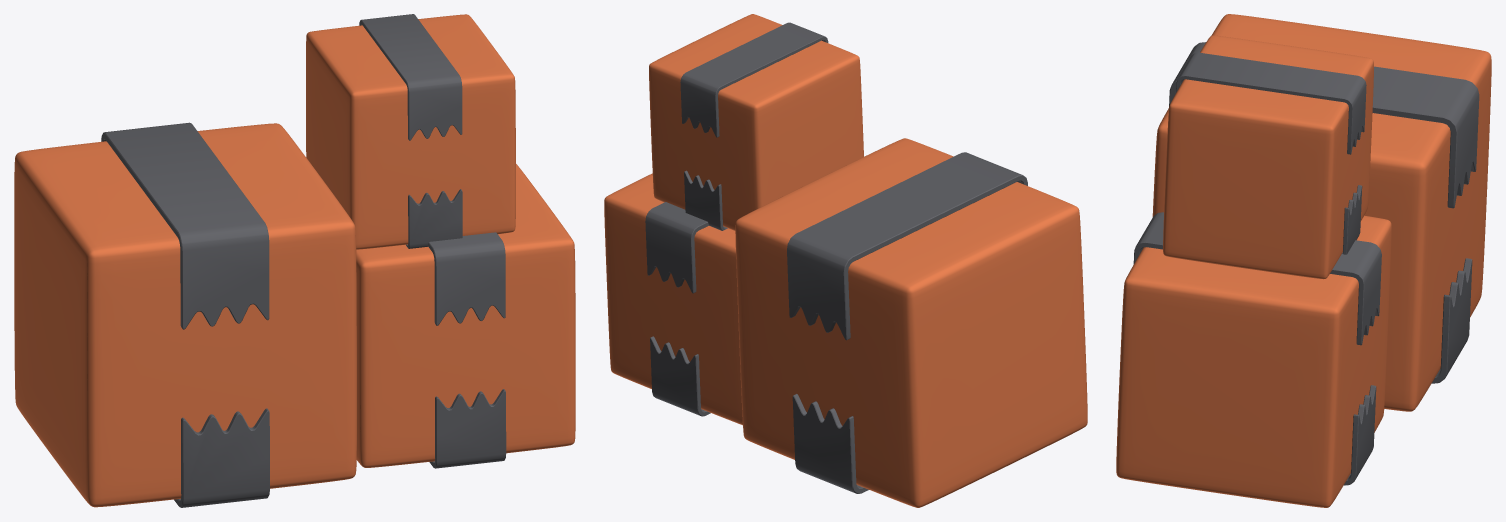
File: delivery-box-3d-icon-961040140073.glb
3 views of the same model, side by side, from view 1: azimuth 30°, elevation 25°; view 2: azimuth 150°, elevation 25°; view 3: azimuth 270°, elevation 25° (orthographic). The views are drawn at different scales.
Parts seen in each view (by area): view 1: Box, Tape; view 2: Box, Tape; view 3: Box, Tape.
Part boxes in pixels (x1,y1,x2,y2): Box: (14, 14, 575, 507); Tape: (101, 14, 506, 507); Box: (604, 14, 1087, 507); Tape: (645, 22, 1027, 493); Box: (1116, 14, 1491, 507); Tape: (1133, 42, 1479, 485).
Bounding box in the file's own units: 1.97 × 1.47 × 1.32.
